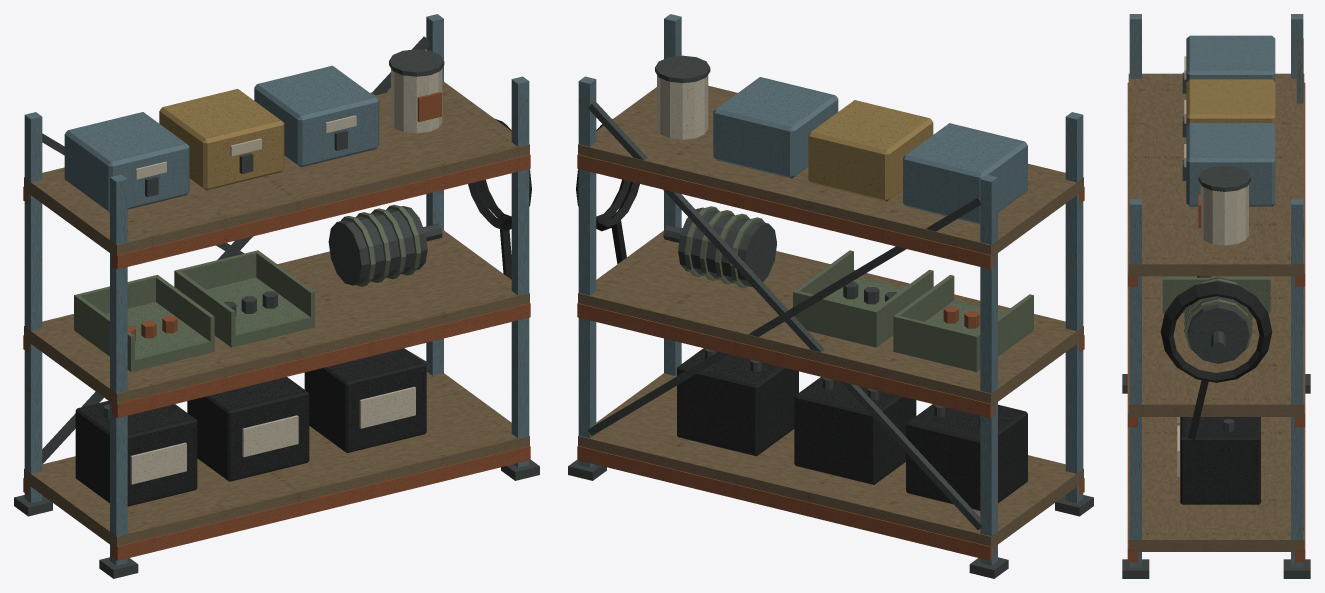
File: CompactPartsShelf.fbx
3 views of the same model, side by side, from view 1: azimuth 30°, elevation 25°; view 2: azimuth 150°, elevation 25°; view 3: azimuth 270°, elevation 25° (orthographic). The views are drawn at different scales.
Parts seen in each view (by area): view 1: CompactPartsShelf; view 2: CompactPartsShelf; view 3: CompactPartsShelf.
Boxes of the visible parts, left/top/right/bottom form: CompactPartsShelf: left=14, top=14, right=539, bottom=578; CompactPartsShelf: left=568, top=14, right=1093, bottom=578; CompactPartsShelf: left=1122, top=14, right=1310, bottom=578.
Size of the model in its own units: 234 by 198 by 91.
1 material, 1 textured.
